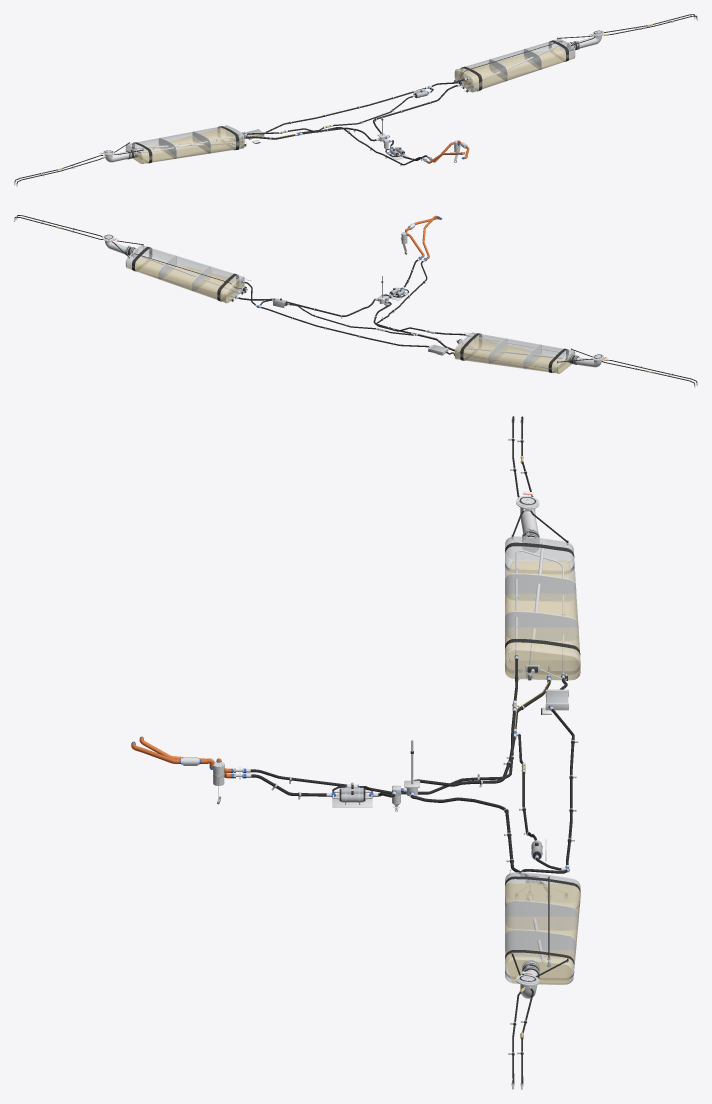
The model's file is da40-fuel.glb.
3 views of the same model, one above another, from view 1: azimuth 30°, elevation 25°; view 2: azimuth 150°, elevation 25°; view 3: azimuth 270°, elevation 25° (orthographic). The views are drawn at different scales.
Parts seen in each view (by area): view 1: Fuel tank MAIN (LH wing) - welded aluminium, Fuel tank AUX (RH wing) - welded aluminium, Fuel Jet A-1 in MAIN tank, Fuel Jet A-1 in AUX tank, Fuel return fuel cooler to MAIN tank tee, Fuel return firewall to check valve; view 2: Fuel tank MAIN (LH wing) - welded aluminium, Fuel tank AUX (RH wing) - welded aluminium, Fuel Jet A-1 in MAIN tank, Fuel Jet A-1 in AUX tank, Fuel return fuel cooler to MAIN tank tee, Fuel supply MAIN tank to fuel valve, Fuel return firewall to check valve; view 3: Fuel tank AUX (RH wing) - welded aluminium, Fuel tank MAIN (LH wing) - welded aluminium, Fuel Jet A-1 in AUX tank, Fuel Jet A-1 in MAIN tank, Fuel tank MAIN baffle 1, Fuel tank AUX baffle 1, Fuel tank AUX baffle 2, Fuel tank MAIN baffle 2, Fuel return firewall to check valve.
Boxes of the visible parts, x1,y1,x2,y2 form: Fuel tank MAIN (LH wing) - welded aluminium: (454, 39, 575, 92); Fuel tank AUX (RH wing) - welded aluminium: (125, 125, 244, 163); Fuel Jet A-1 in MAIN tank: (455, 48, 572, 92); Fuel Jet A-1 in AUX tank: (133, 127, 244, 163); Fuel return fuel cooler to MAIN tank tee: (264, 86, 428, 132); Fuel return firewall to check valve: (284, 127, 424, 165); Fuel tank MAIN (LH wing) - welded aluminium: (125, 245, 244, 303); Fuel tank AUX (RH wing) - welded aluminium: (455, 332, 575, 373); Fuel Jet A-1 in MAIN tank: (127, 258, 244, 302); Fuel Jet A-1 in AUX tank: (454, 338, 571, 373); Fuel return fuel cooler to MAIN tank tee: (258, 305, 431, 347); Fuel supply MAIN tank to fuel valve: (235, 296, 378, 318); Fuel return firewall to check valve: (376, 259, 428, 332); Fuel tank AUX (RH wing) - welded aluminium: (505, 537, 580, 680); Fuel tank MAIN (LH wing) - welded aluminium: (505, 873, 580, 984); Fuel Jet A-1 in AUX tank: (505, 561, 580, 680); Fuel Jet A-1 in MAIN tank: (505, 884, 580, 984); Fuel tank MAIN baffle 1: (505, 901, 578, 930); Fuel tank AUX baffle 1: (505, 612, 578, 640); Fuel tank AUX baffle 2: (505, 574, 575, 601); Fuel tank MAIN baffle 2: (505, 930, 575, 957); Fuel return firewall to check valve: (242, 706, 516, 794).
Bounding box in the file's own units: 7.77 × 0.4701 × 2.22.
